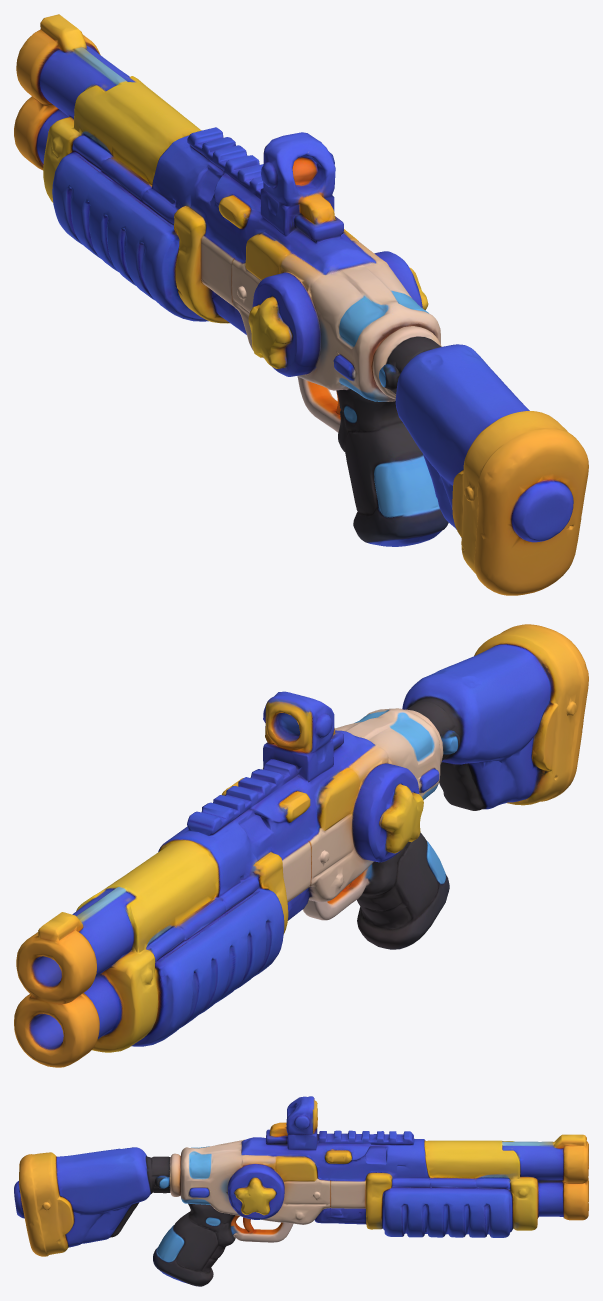
File: pop_battle_shotgun.glb
3 views of the same model, one above another, from view 1: azimuth 30°, elevation 25°; view 2: azimuth 150°, elevation 25°; view 3: azimuth 270°, elevation 25° (orthographic). The views are drawn at different scales.
Parts seen in each view (by area): view 1: tripo_node_15089f6b-0aef-4024-9ce8-7fafc1653f17; view 2: tripo_node_15089f6b-0aef-4024-9ce8-7fafc1653f17; view 3: tripo_node_15089f6b-0aef-4024-9ce8-7fafc1653f17.
Part boxes in pixels (bbox=[...]): tripo_node_15089f6b-0aef-4024-9ce8-7fafc1653f17: bbox=[14, 14, 588, 595]; tripo_node_15089f6b-0aef-4024-9ce8-7fafc1653f17: bbox=[14, 624, 588, 1067]; tripo_node_15089f6b-0aef-4024-9ce8-7fafc1653f17: bbox=[14, 1096, 588, 1286].
Size of the model in its own units: 0.1759 by 0.3548 by 1.
Materials: 1 (1 with a texture image).
